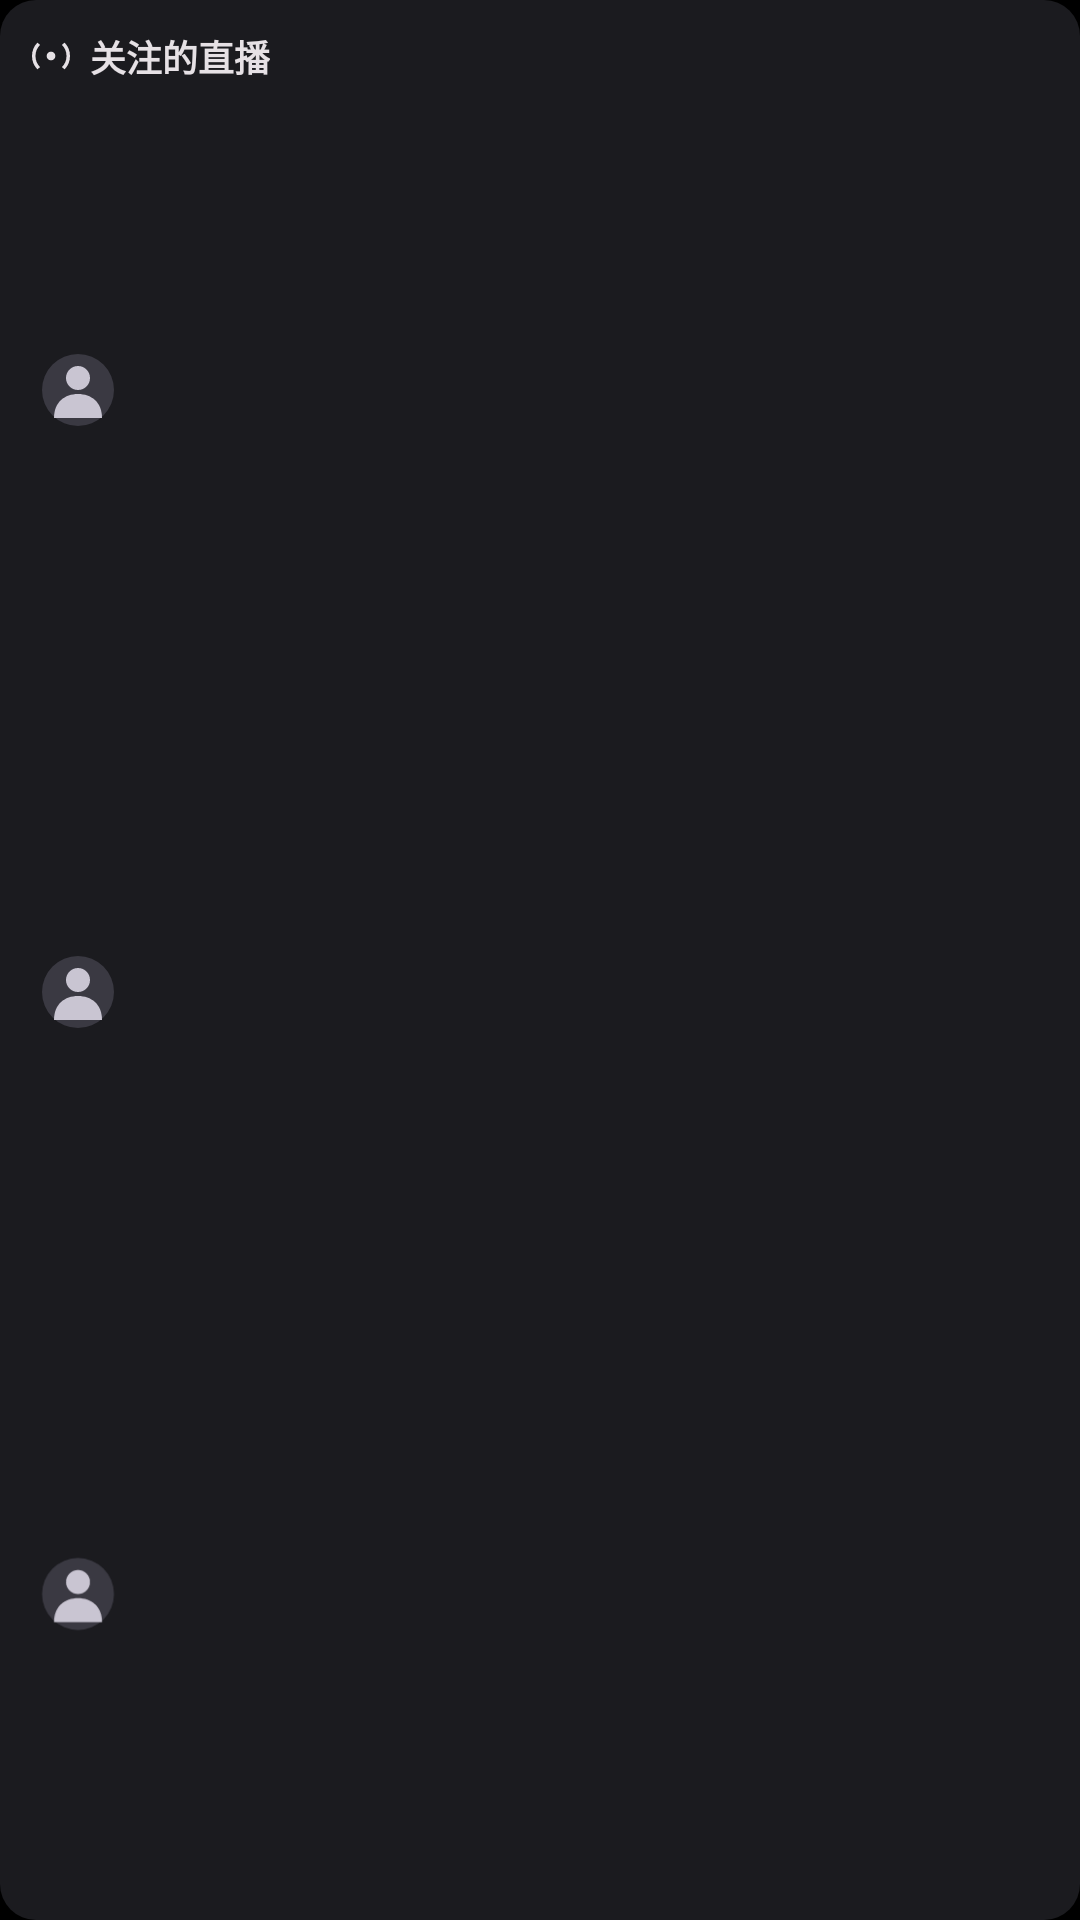

Where to tap for icons on this 1080px×1920px app screen, as (x,y):
widget live: (51,56)
